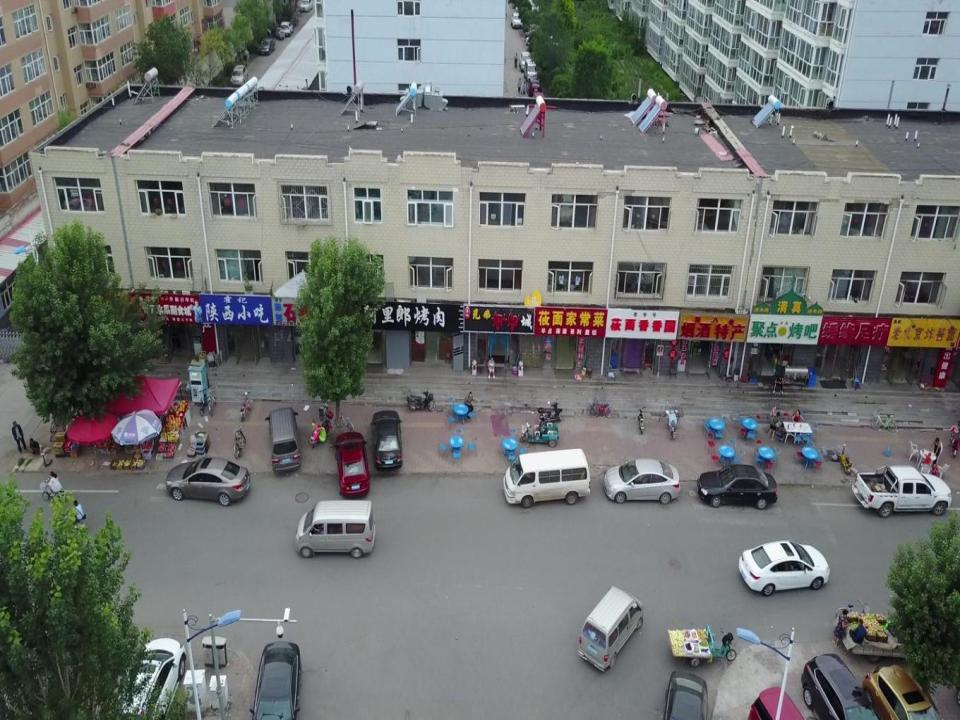car: (117, 636, 186, 720), (738, 540, 830, 597), (801, 654, 878, 718), (861, 665, 940, 719), (165, 456, 250, 506), (249, 641, 301, 718), (697, 463, 778, 509), (603, 458, 680, 504), (335, 431, 370, 498), (664, 671, 708, 720), (371, 411, 403, 470), (950, 424, 959, 457)
truck: (852, 465, 952, 517)
van: (578, 584, 644, 672), (503, 448, 590, 507), (295, 501, 376, 557), (265, 406, 301, 474)
